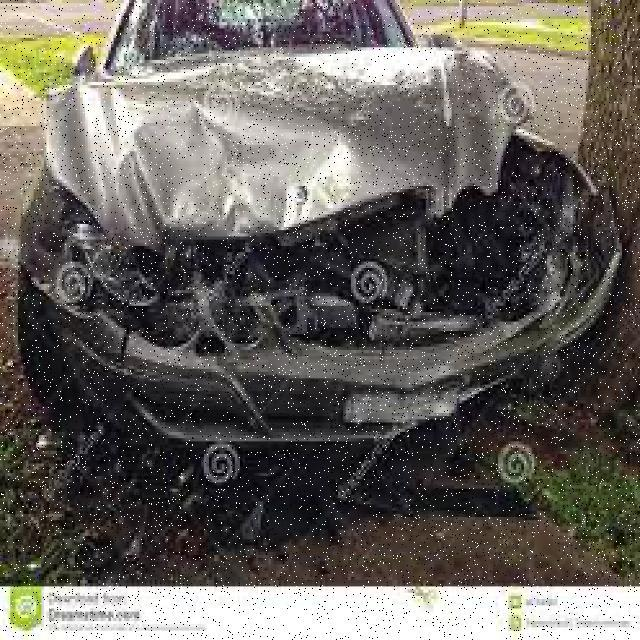bonnet-dent: (39, 44, 530, 264)
front-bumper-dent: (41, 255, 536, 450)
